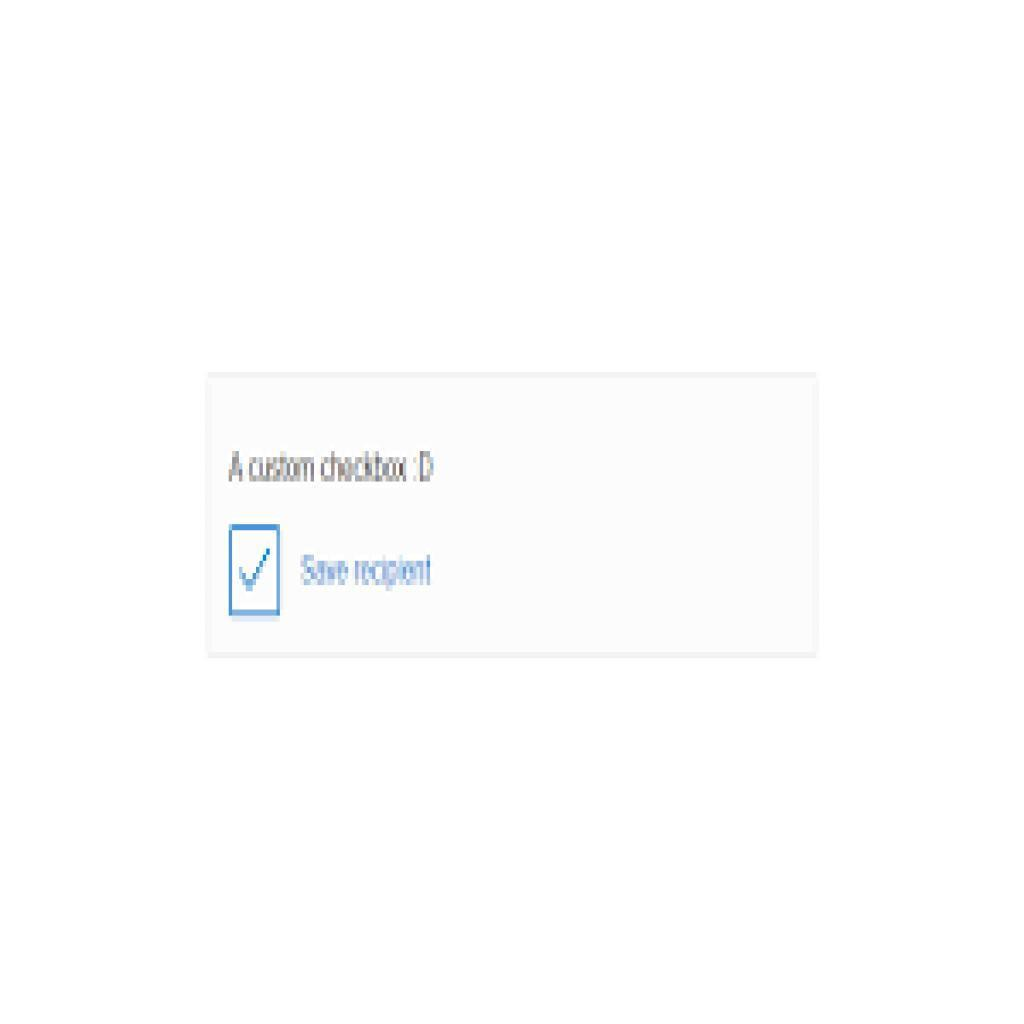button: (301, 545, 438, 595)
checkbox: (230, 525, 283, 616)
